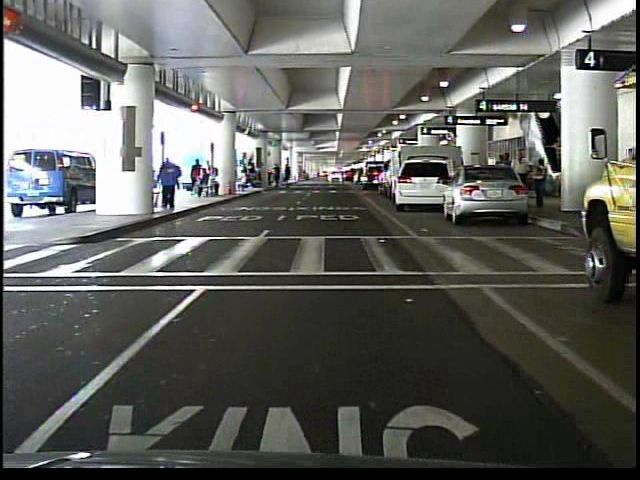person: (155, 153, 183, 210)
